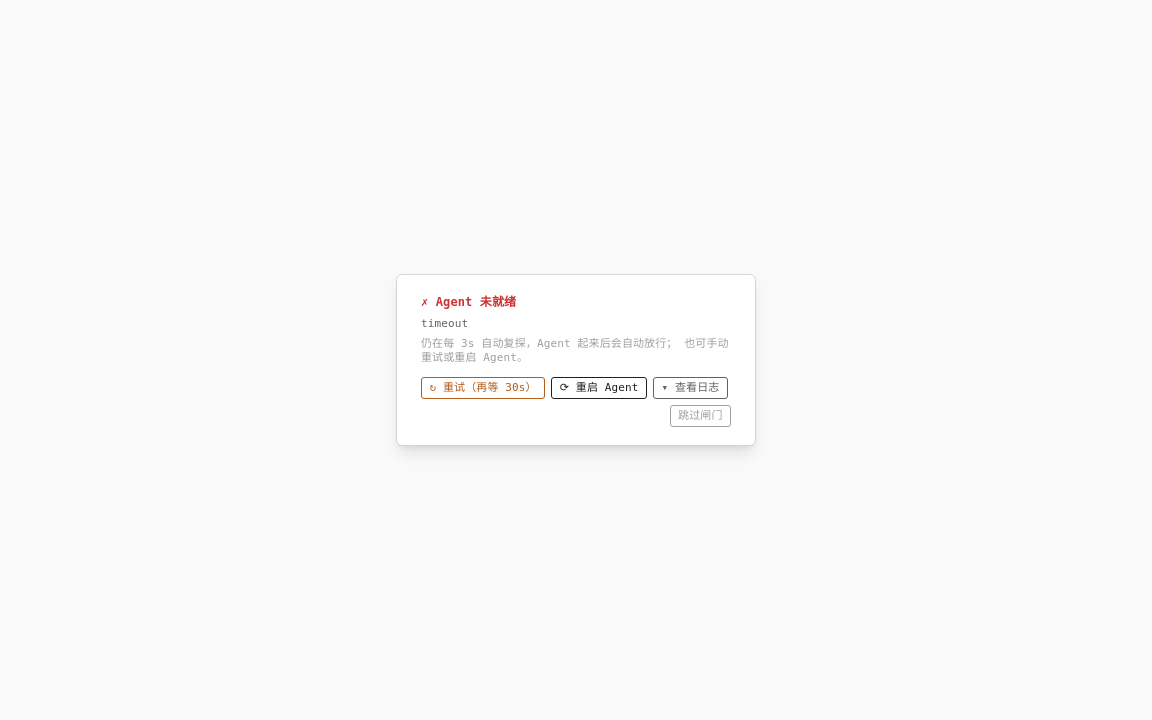
Test: AgentReadyGate › 失败态点「查看日志」：展示 eaide.log 末尾内容
Click the button "▾ 查看日志" at (690, 388), box [653,377,728,399]
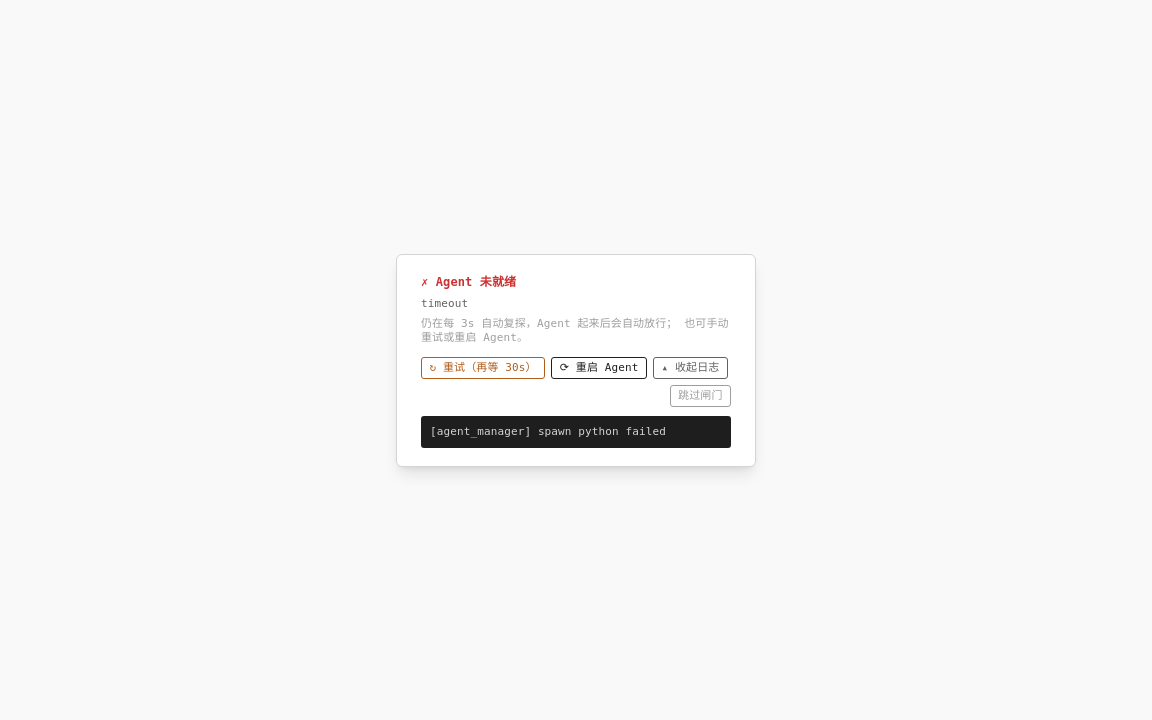
Check: the text "[agent_manager] spawn python failed" is shown, box [421,416,731,448]
